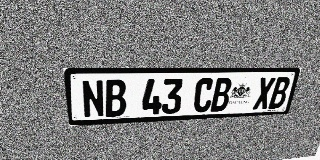3: (161, 78, 183, 114)
4: (142, 79, 163, 115)
B: (104, 79, 126, 117), (210, 78, 233, 112), (268, 77, 291, 109)
C: (192, 78, 215, 113)
N: (81, 80, 105, 118)
X: (252, 77, 276, 110)
